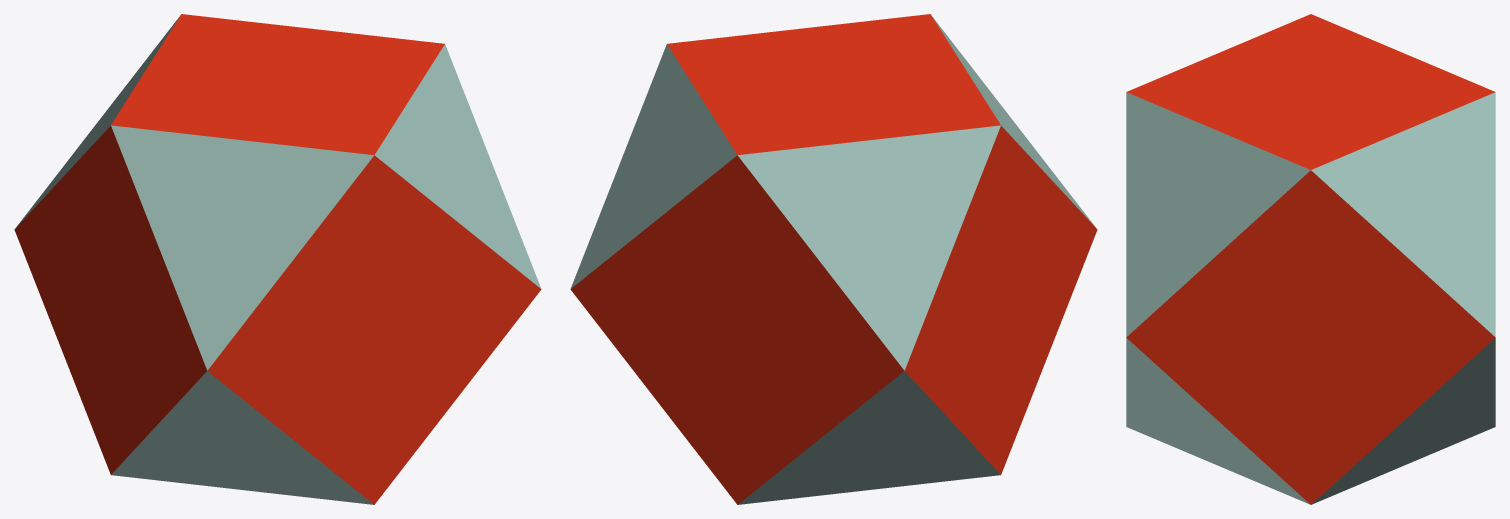
File: cuboctahedron.fbx
3 views of the same model, side by side, from view 1: azimuth 30°, elevation 25°; view 2: azimuth 150°, elevation 25°; view 3: azimuth 270°, elevation 25° (orthographic). The views are drawn at different scales.
Parts seen in each view (by area): view 1: polyhedronisme-aC; view 2: polyhedronisme-aC; view 3: polyhedronisme-aC.
Boxes of the visible parts, x1=… form: polyhedronisme-aC: x1=14, y1=14, x2=541, y2=504; polyhedronisme-aC: x1=570, y1=14, x2=1097, y2=504; polyhedronisme-aC: x1=1126, y1=14, x2=1495, y2=504.
Size of the model in its own units: 141 by 141 by 141.
